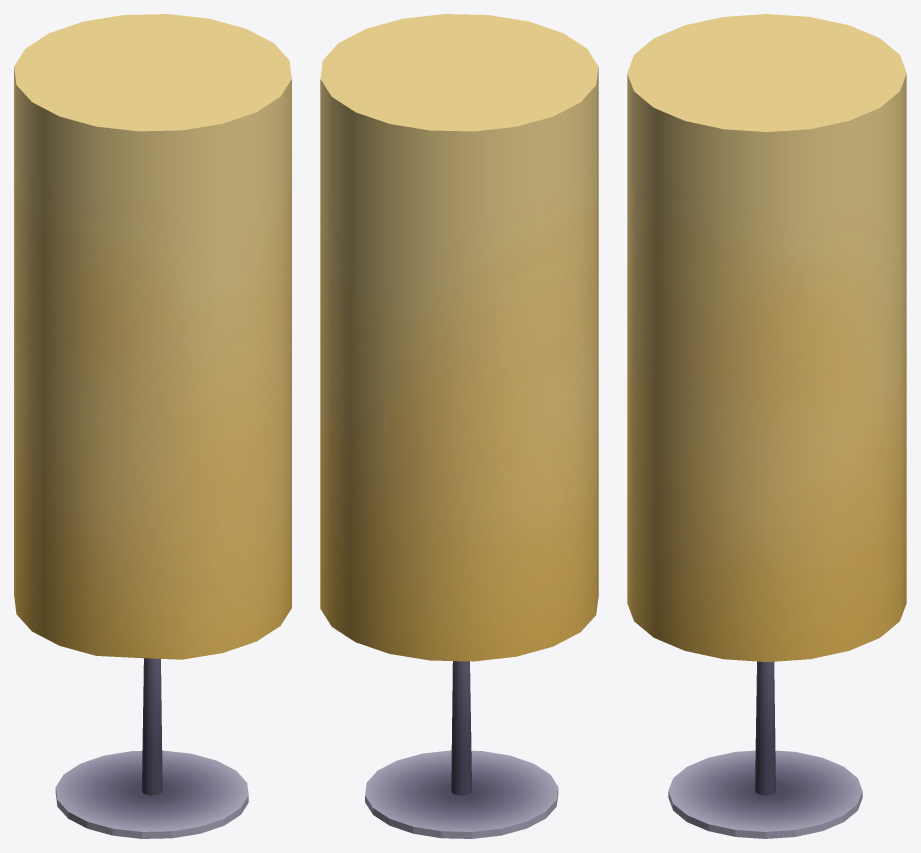
The model's file is lamp_cyl 1.fbx.
3 renders of one model, left to right at view 1: azimuth 30°, elevation 25°; view 2: azimuth 150°, elevation 25°; view 3: azimuth 270°, elevation 25°, orthographic.
Parts seen in each view (by area): view 1: pPipe4, pPipe3; view 2: pPipe4, pPipe3; view 3: pPipe4, pPipe3.
Boxes of the visible parts, left/top/right/bottom form: pPipe4: left=14, top=14, right=291, bottom=659; pPipe3: left=55, top=658, right=248, bottom=838; pPipe4: left=320, top=14, right=598, bottom=661; pPipe3: left=365, top=661, right=558, bottom=838; pPipe4: left=627, top=14, right=906, bottom=661; pPipe3: left=668, top=661, right=862, bottom=838.
Bounding box in the file's own units: 8.56 × 24.5 × 8.56.
Materials: 1 (1 with a texture image).
